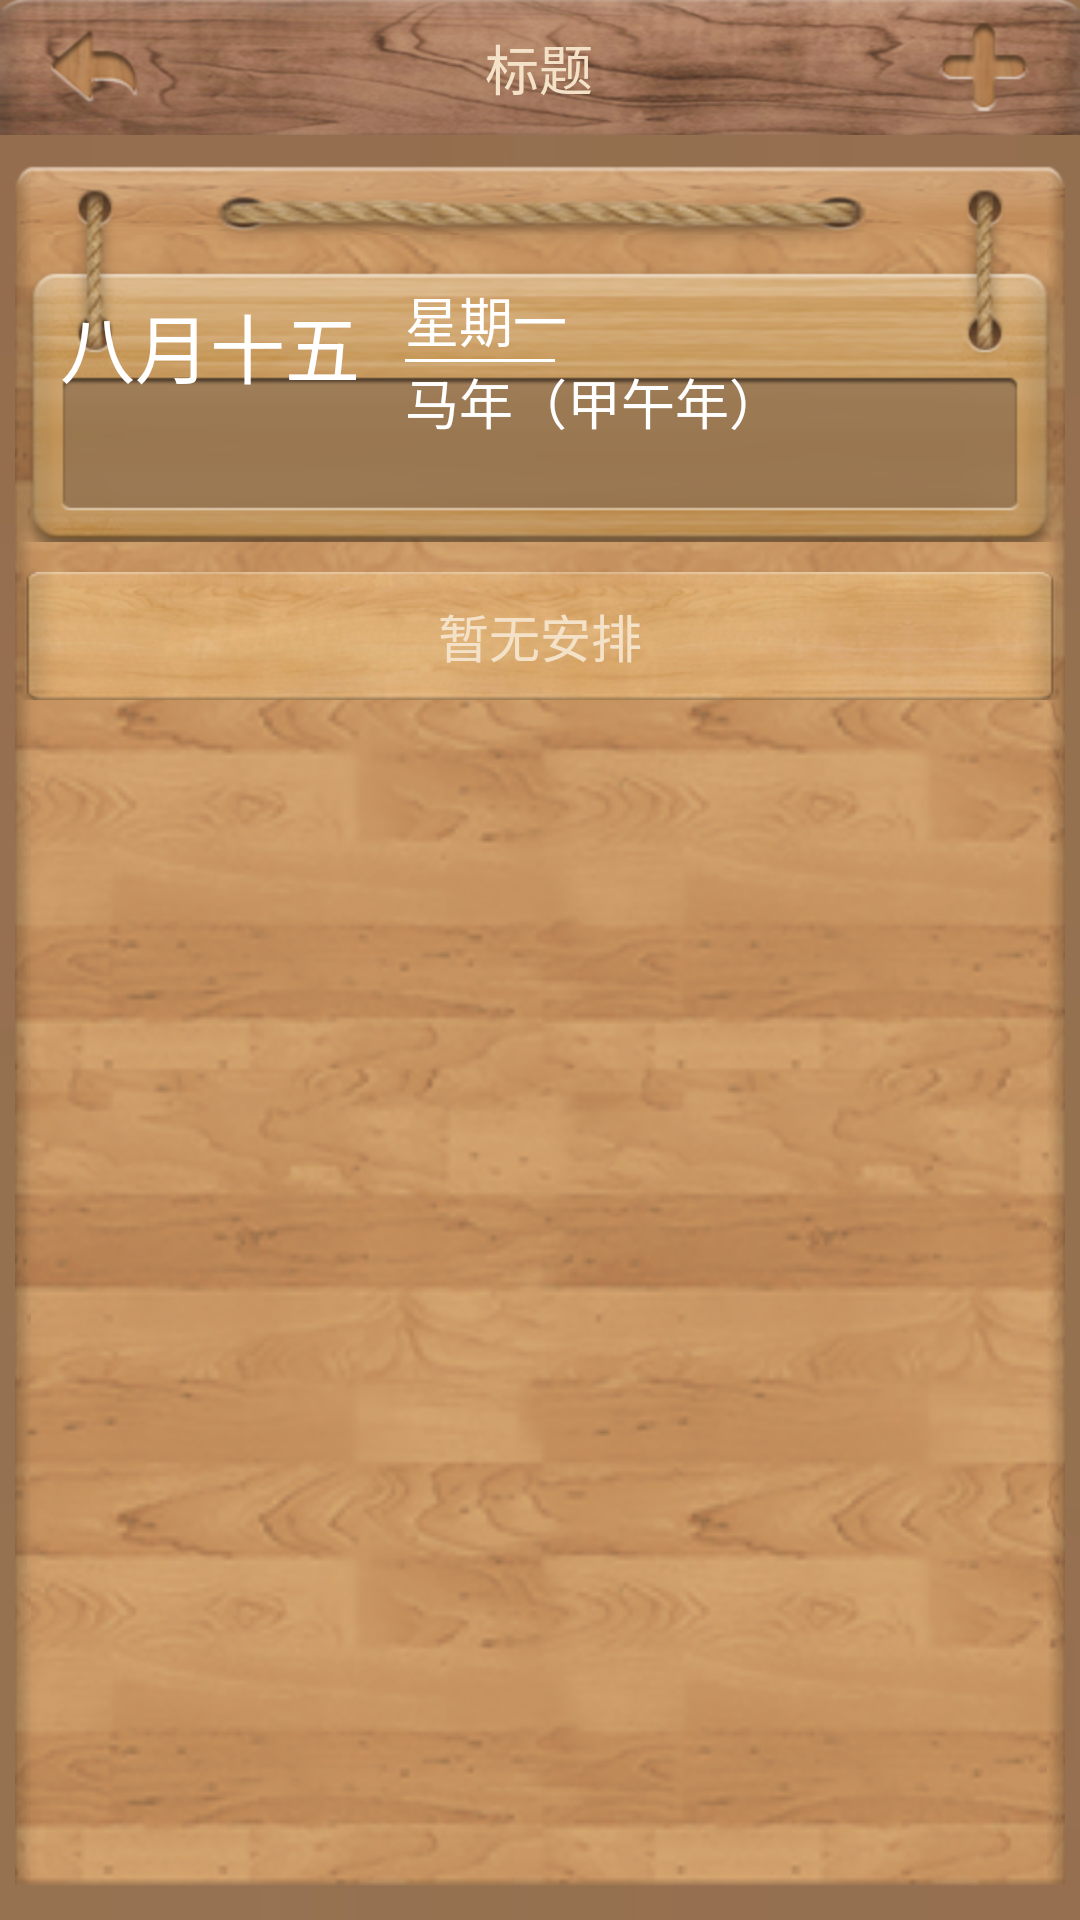

Where to tap for icons on this 1080px x 1920px app screen, as [x,y]:
add: [984,67]
back: [95,67]
